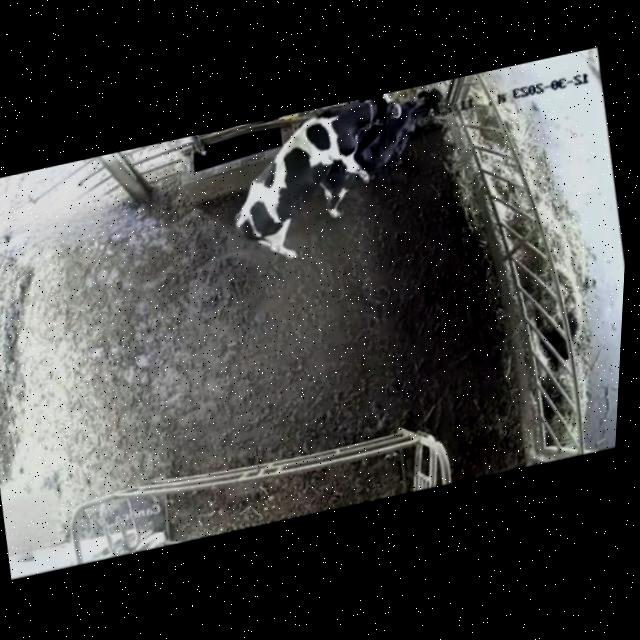ride: (206, 89, 424, 284)
stand: (337, 83, 469, 208)
